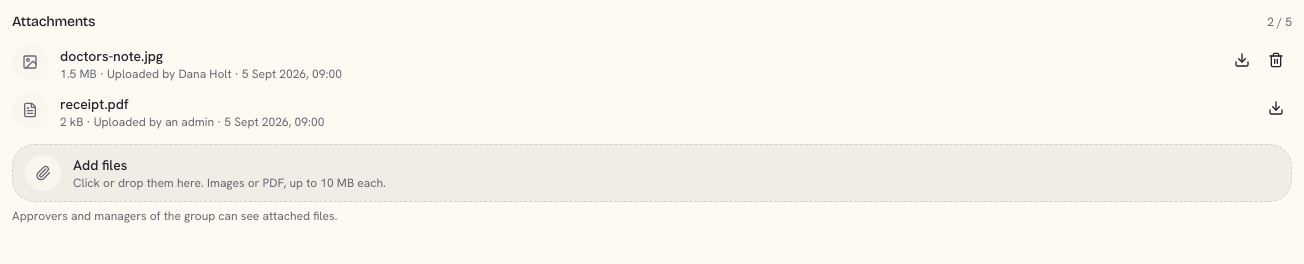
Test case: AttachmentSection › explains a delete the backend refused
Step 1. Click the button named "Delete doctors-note.jpg" → (1276,60), box [1260,44,1292,76]
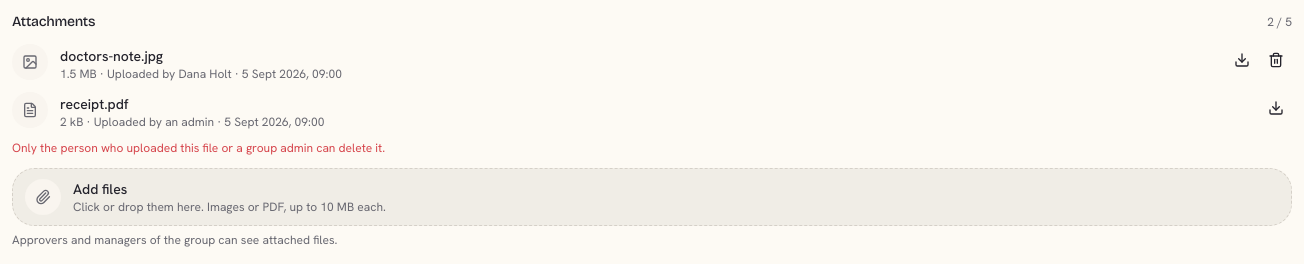
Now the message reads "Only the person who uploaded this file or a group admin can delete it.", box [12,140,385,156]
